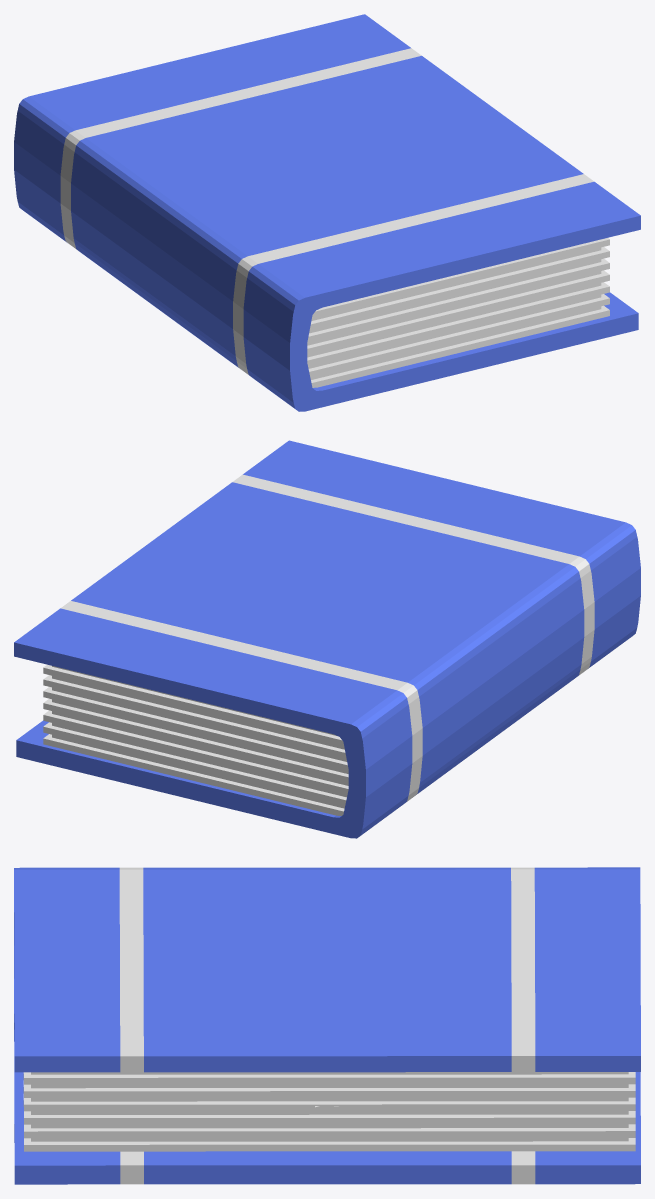
File: book.gltf
3 views of the same model, one above another, from view 1: azimuth 30°, elevation 25°; view 2: azimuth 150°, elevation 25°; view 3: azimuth 270°, elevation 25° (orthographic). The views are drawn at different scales.
Parts seen in each view (by area): view 1: Box001; view 2: Box001; view 3: Box001.
Part boxes in pixels (left/top/right/bottom): Box001: left=14, top=14, right=640, bottom=411; Box001: left=14, top=440, right=640, bottom=838; Box001: left=14, top=867, right=640, bottom=1184.
Bounding box in the file's own units: 0.1834 × 0.0567 × 0.2489.
